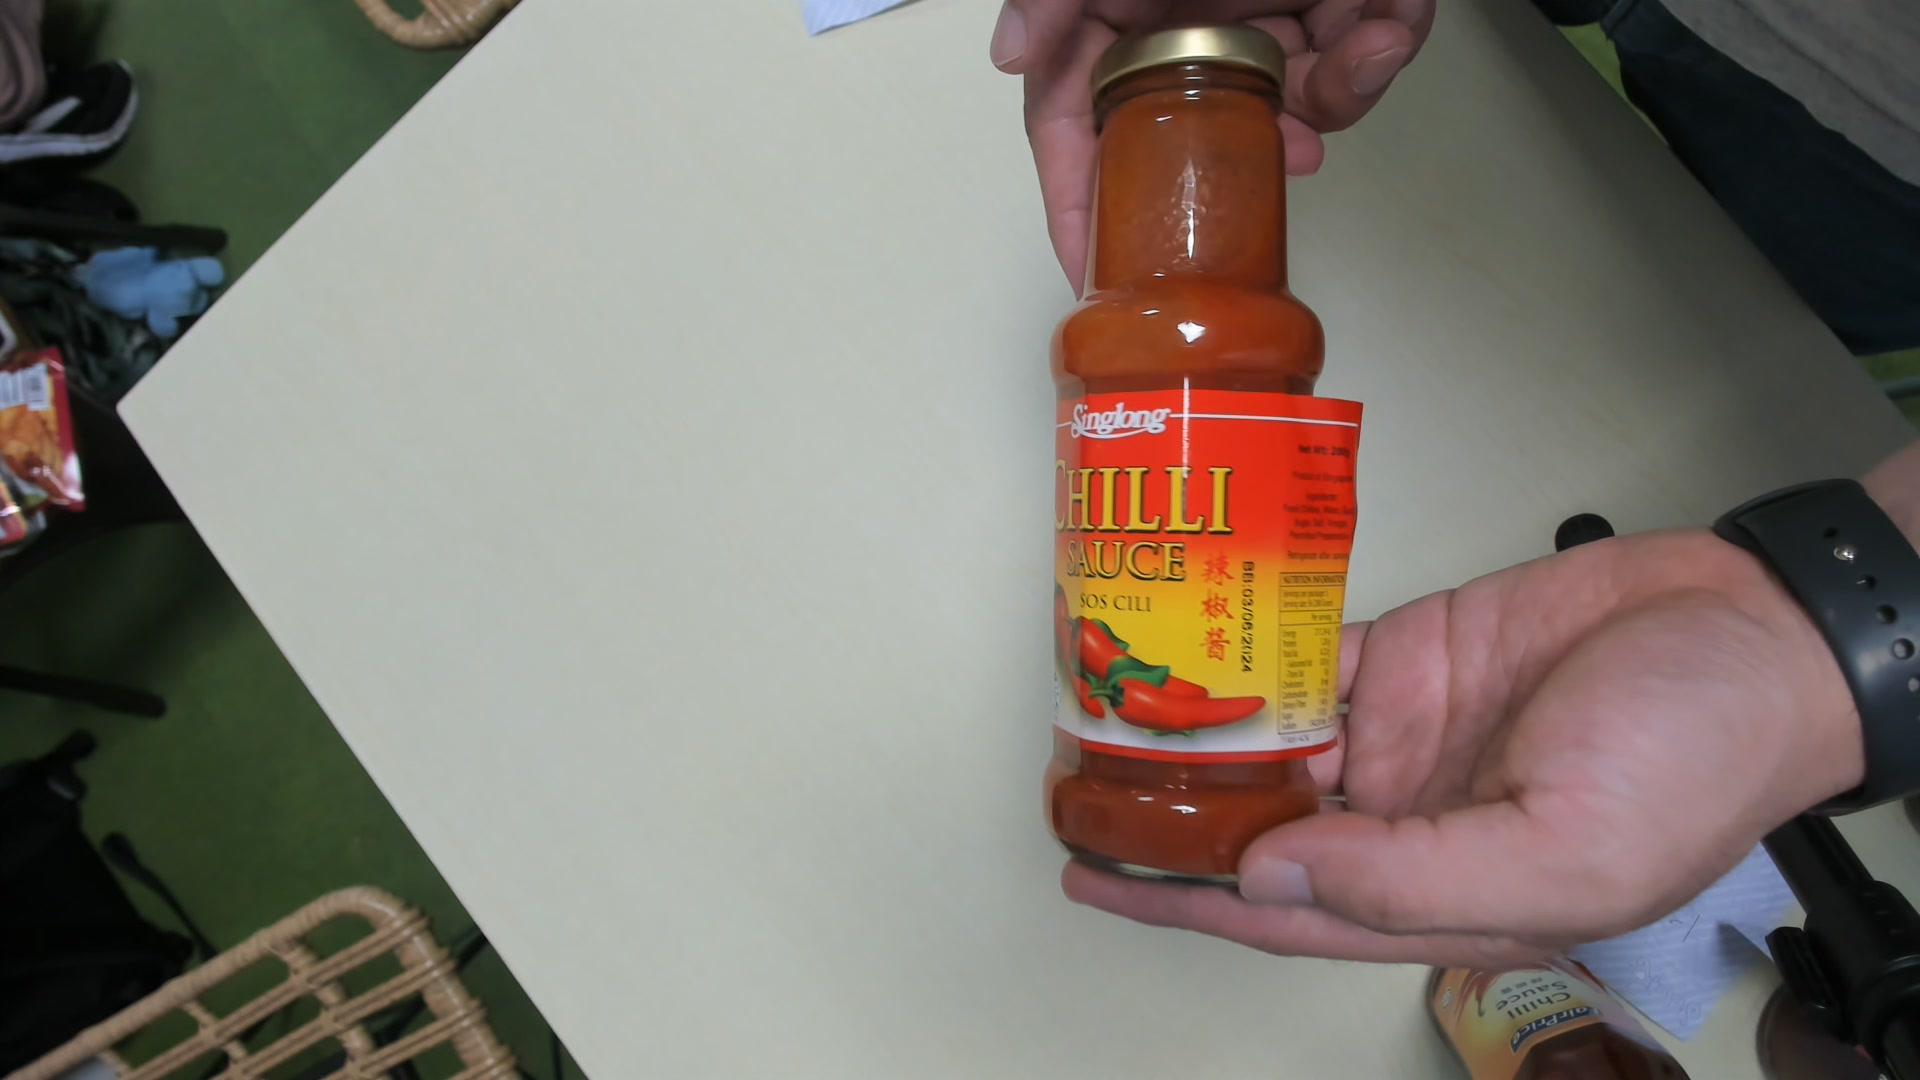KetchupChillSauce_200-299g_Halal_NonHealthy: (1044, 28, 1327, 881)
